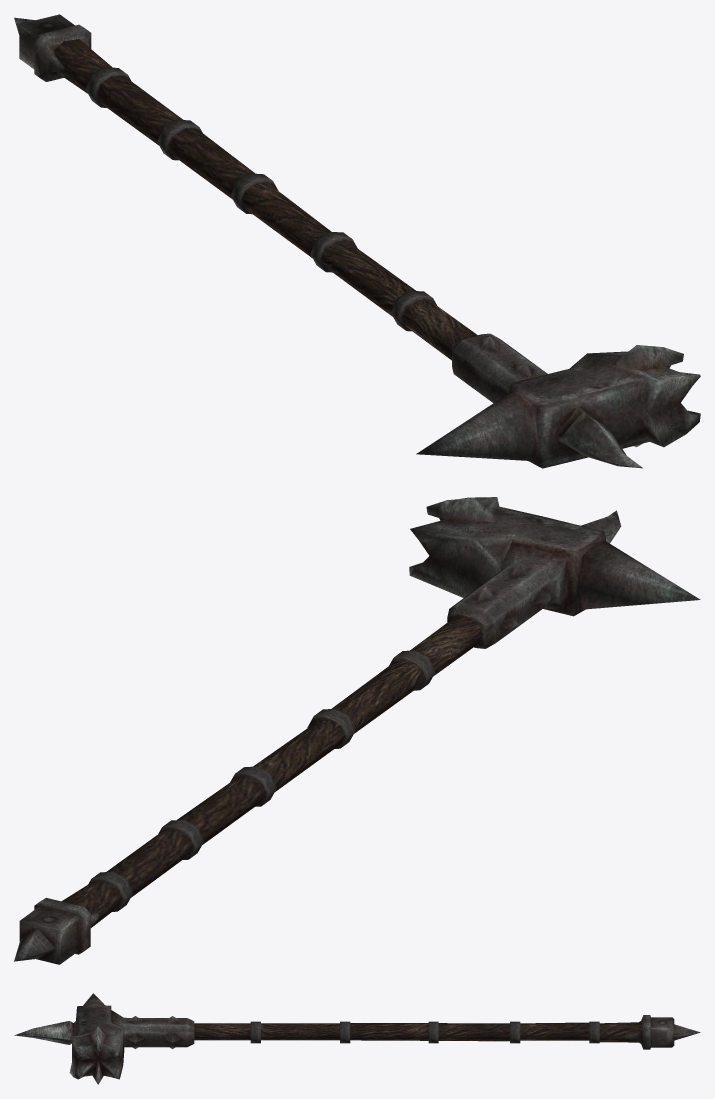
File: iron-warhammer.glb
3 views of the same model, one above another, from view 1: azimuth 30°, elevation 25°; view 2: azimuth 150°, elevation 25°; view 3: azimuth 270°, elevation 25° (orthographic). The views are drawn at different scales.
Visible parts, largest first — view 1: WarHammer02:0; view 2: WarHammer02:0; view 3: WarHammer02:0.
Boxes of the visible parts, x1=… form: WarHammer02:0: x1=14, y1=14, x2=700, y2=468; WarHammer02:0: x1=14, y1=497, x2=700, y2=964; WarHammer02:0: x1=14, y1=993, x2=700, y2=1084.
Bounding box in the file's own units: 0.3334 × 0.1186 × 1.3.
Materials: 1 (1 with a texture image).
